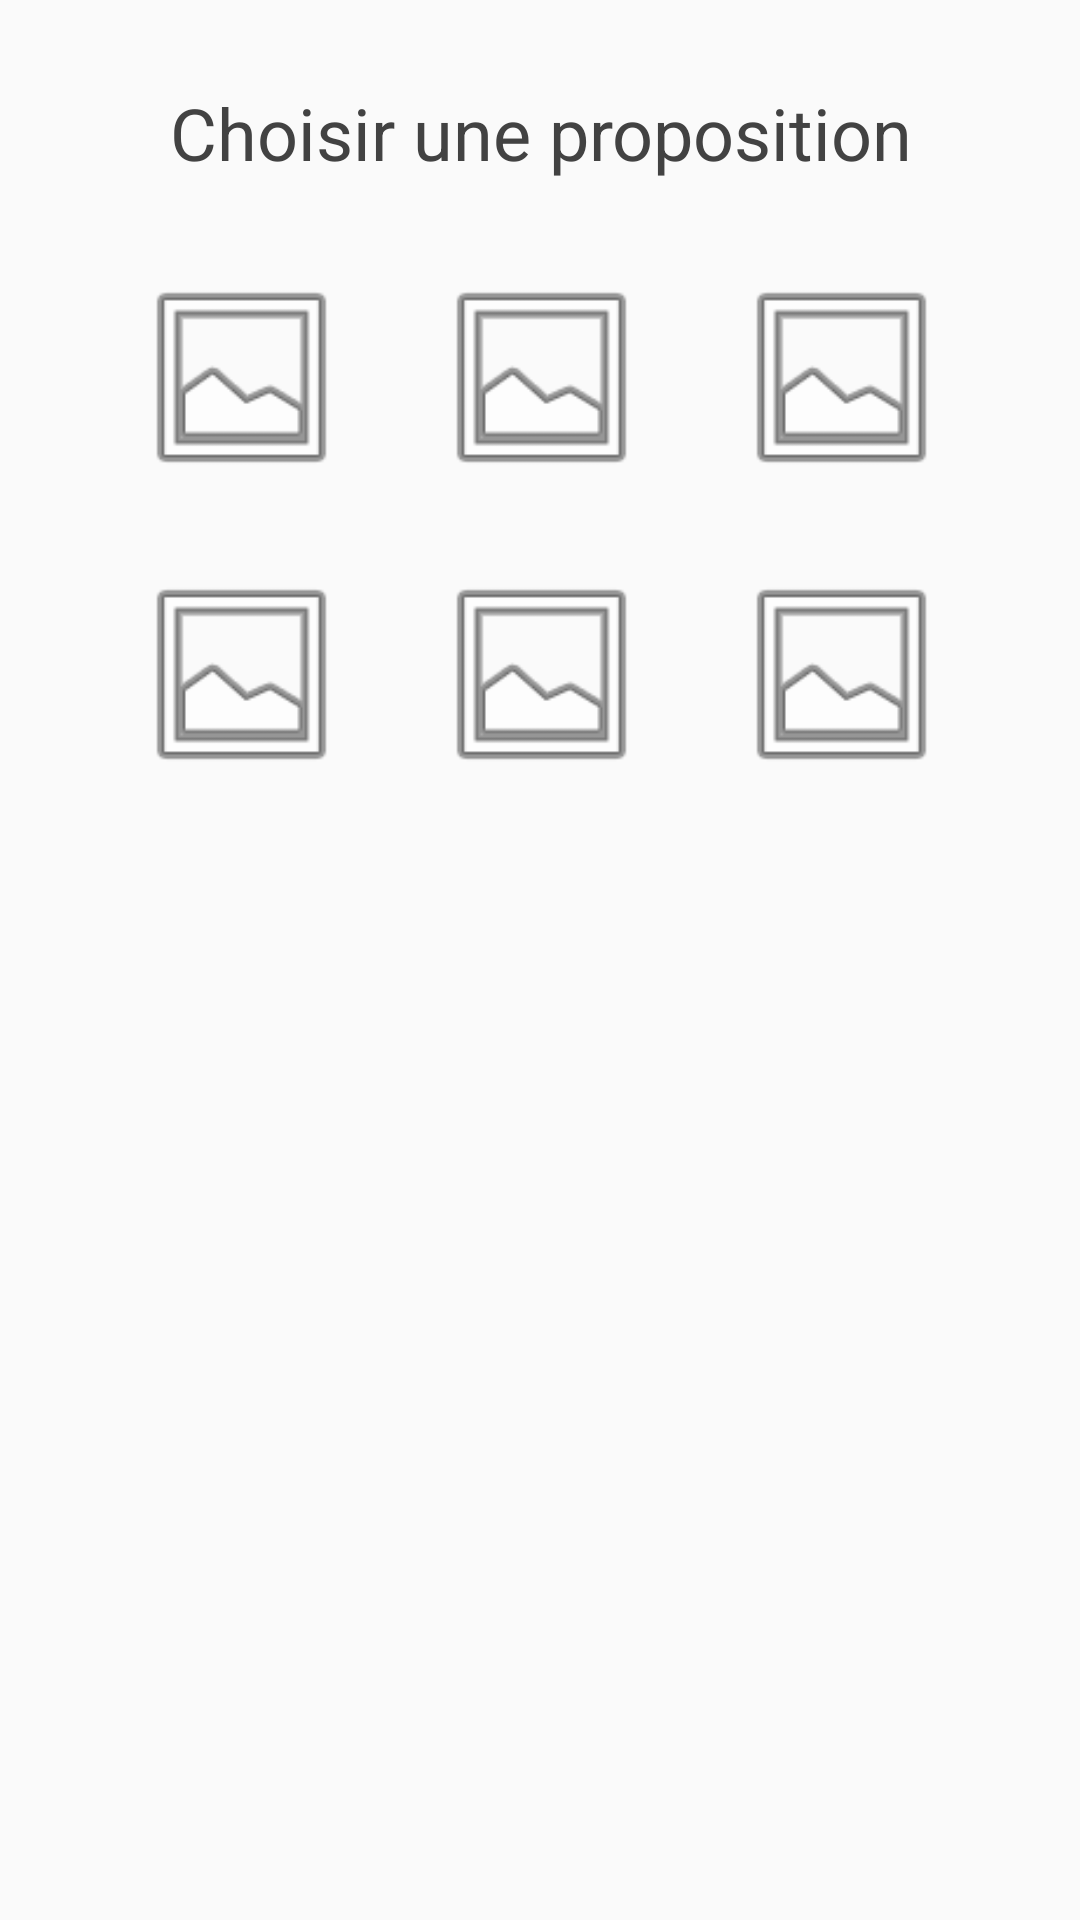

Where icons sit on this 1080 × 1920 app screen, as (x1,y1,x2,y2):
gallery: (157,292,326,463), (457,292,626,463), (757,292,926,463), (157,589,326,760), (457,589,626,760), (757,589,926,760)
